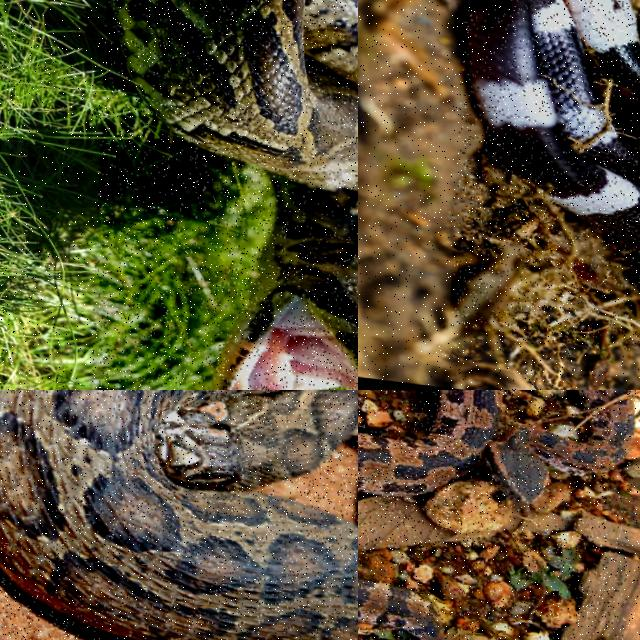Bungarus candidus: (462, 0, 639, 253)
Daboia siamensis: (0, 390, 357, 639)
Ovophis monticola: (358, 390, 634, 501)
Python bivittatus: (111, 0, 357, 389)
snake: (111, 0, 357, 389), (0, 390, 357, 639), (462, 0, 639, 253), (358, 390, 634, 501)
